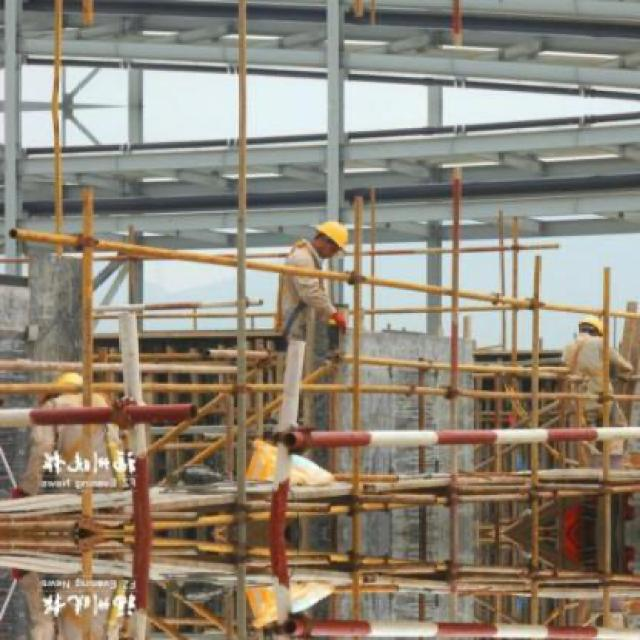con casco: (288, 215, 366, 274), (15, 355, 97, 409)
